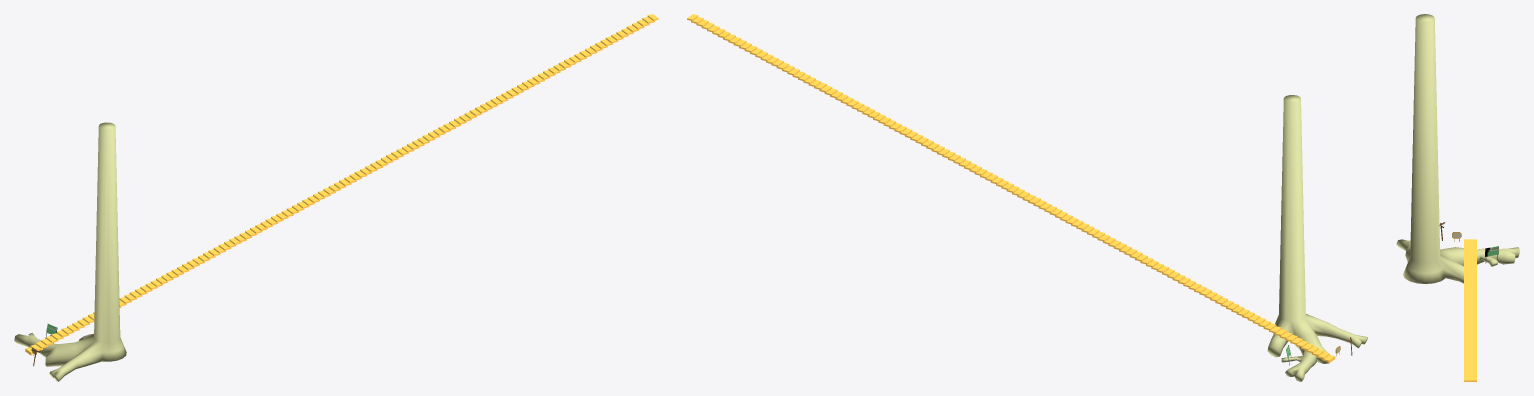
The model's file is rock_kicking_heaven_stairs_stairs_collision.glb.
The picture shows the model from 3 angles, left to right: view 1: azimuth 30°, elevation 25°; view 2: azimuth 150°, elevation 25°; view 3: azimuth 270°, elevation 25°; orthographic projection. The views are drawn at different scales.
Visible parts, largest first — view 1: massive_tree-colonly, stairsnew-colonly; view 2: massive_tree-colonly, stairsnew-colonly; view 3: massive_tree-colonly, stairsnew-colonly, welcome_to_sign-colonly.
Boxes of the visible parts, box(x1,y1,x2,y2) form: massive_tree-colonly: box(14, 122, 126, 381); stairsnew-colonly: box(25, 14, 658, 355); massive_tree-colonly: box(1267, 95, 1367, 381); stairsnew-colonly: box(687, 14, 1335, 363); massive_tree-colonly: box(1396, 14, 1519, 283); stairsnew-colonly: box(1464, 239, 1476, 381); welcome_to_sign-colonly: box(1485, 246, 1498, 263).
Size of the model in its own units: 2562 by 926 by 381.
7 materials, 1 textured.
